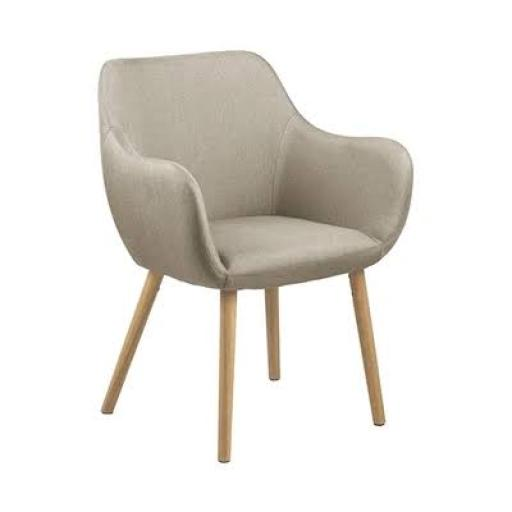kursi: (97, 53, 431, 469)
